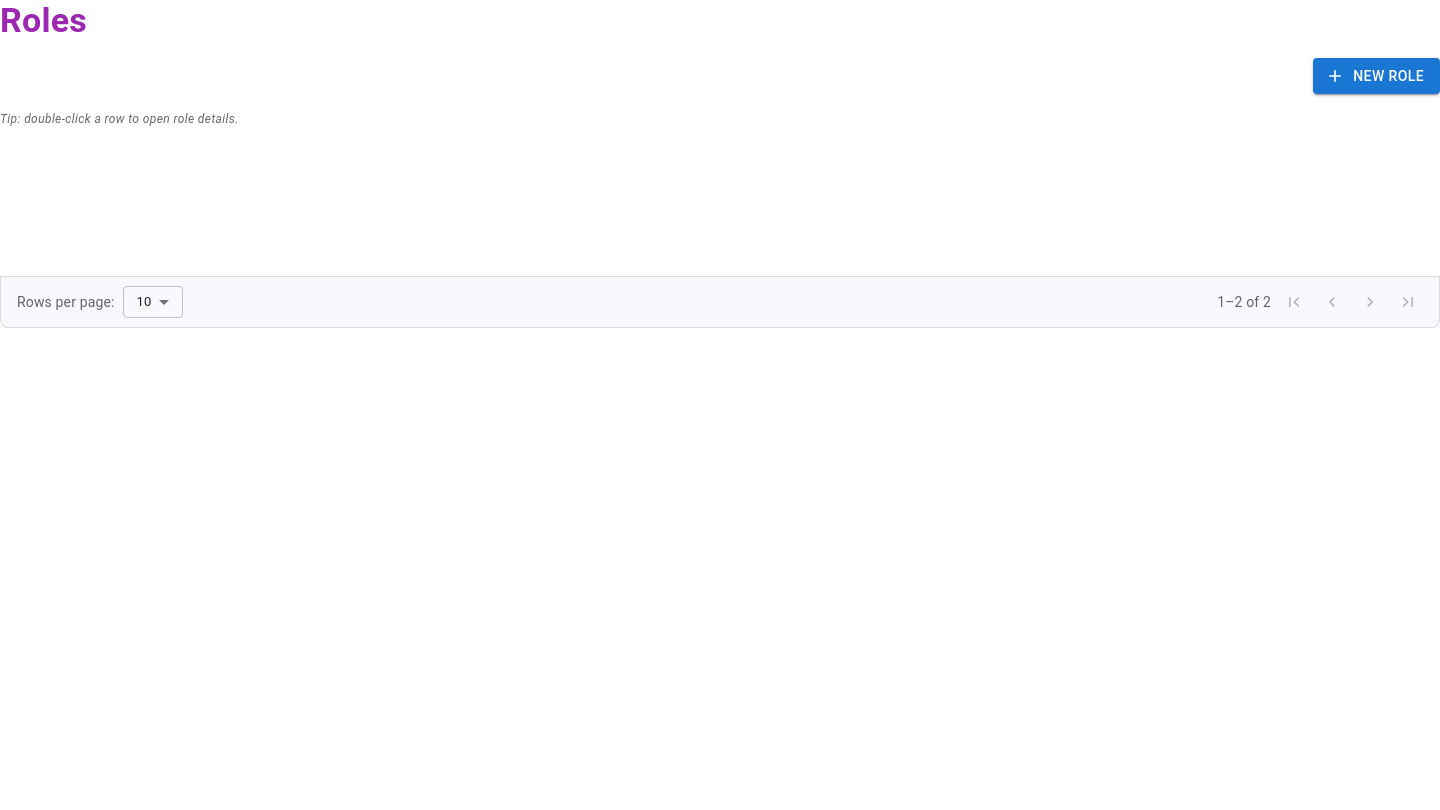
RolesPage › admin sees the New Role button and can open the create dialog
The width and height of the screenshot is (1440, 810).
What coordinates should you click on to do the following:
click the button "New Role"
I would click on:
 (1377, 76)
Its box is [1313, 58, 1439, 94].
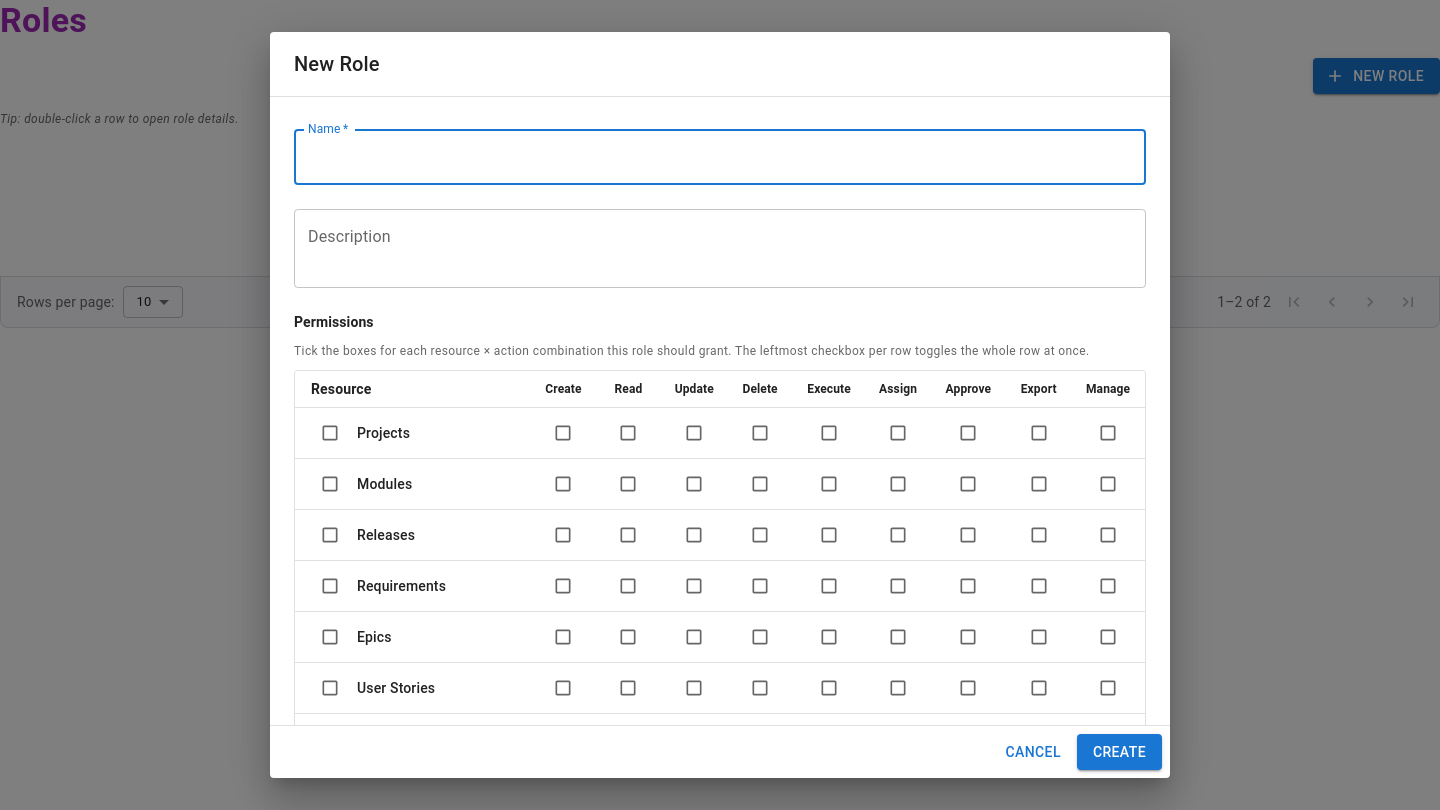
expect the field labelled "Name *" is empty: met, box [294, 129, 1146, 185]
expect the heading "New Role" is shown: met, box [294, 52, 380, 76]
